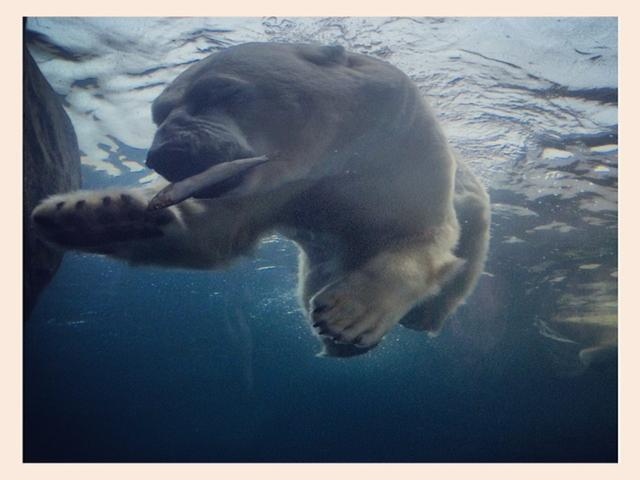Bear: (43, 38, 522, 353)
